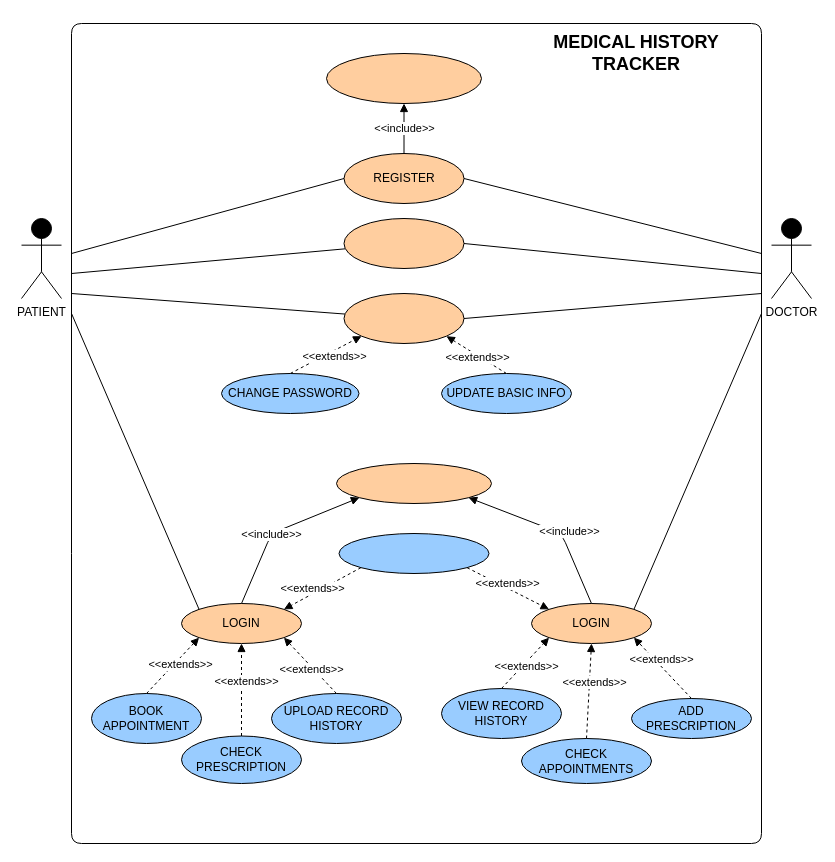
This 835x862 diagram has some shape labels left out. Each missing label, with the centre of its shape:
CHECK TEST RECORDS: (x=413, y=553)
DELETE ACCOUNT: (x=403, y=243)
FILL REGISTRATION FORM: (x=404, y=78)
UPDATE PROFILE: (x=403, y=318)
VERIFY ACCOUNT: (x=414, y=483)
